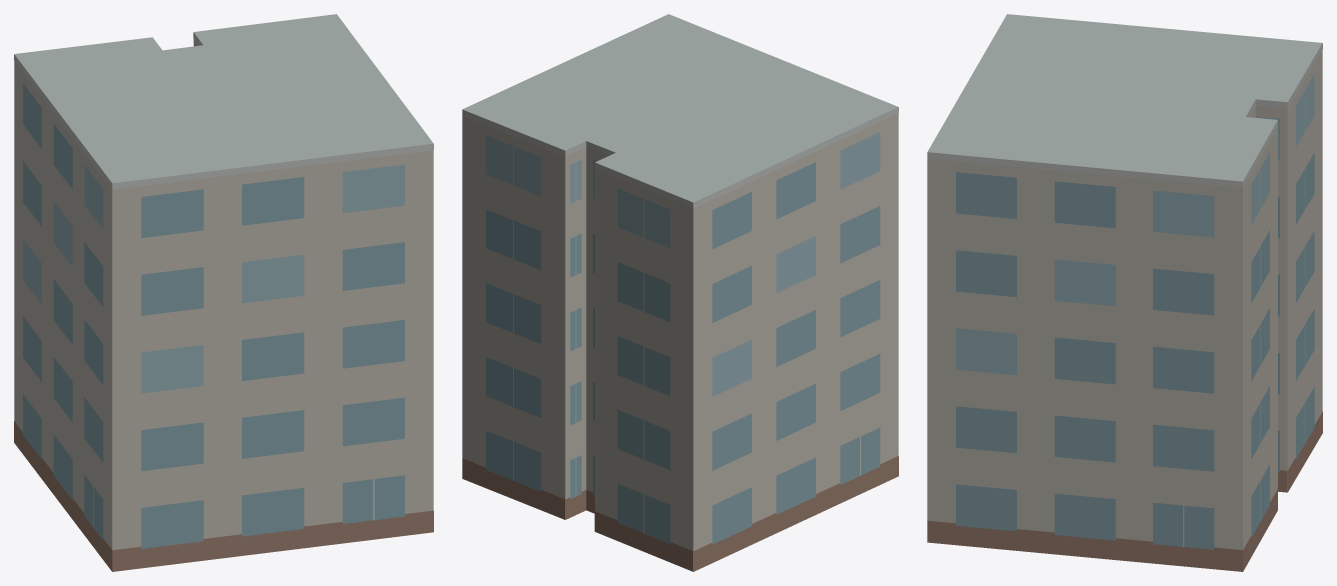
The model's file is survey-upis-32852217.glb.
The picture shows the model from 3 angles, left to right: view 1: azimuth 30°, elevation 25°; view 2: azimuth 150°, elevation 25°; view 3: azimuth 270°, elevation 25°; orthographic projection. The views are drawn at different scales.
Visible parts, largest first — view 1: survey-upis-32852217.tmp; view 2: survey-upis-32852217.tmp; view 3: survey-upis-32852217.tmp.
Part boxes in pixels (bbox=[...]): survey-upis-32852217.tmp: bbox=[14, 14, 433, 571]; survey-upis-32852217.tmp: bbox=[462, 14, 898, 571]; survey-upis-32852217.tmp: bbox=[927, 14, 1322, 571].
Size of the model in its own units: 13.57 by 14.73 by 13.53.
